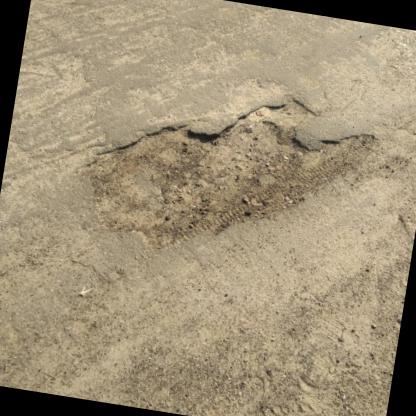pothole: (66, 62, 382, 288)
